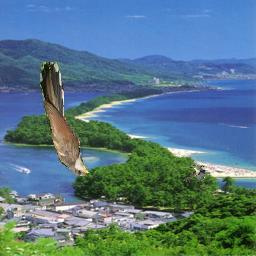Cuckoo: (40, 62, 90, 176)
Swallow: (179, 163, 205, 181)
